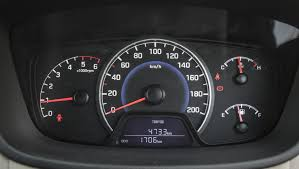Digital_Meter: (125, 117, 193, 150)
